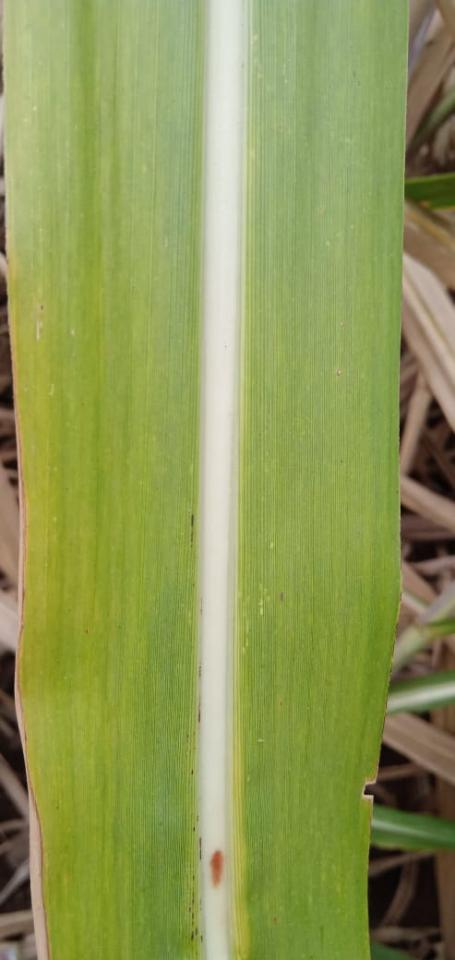RedRot: (207, 849, 224, 890)
Rust: (189, 513, 195, 549), (197, 692, 202, 725), (199, 596, 205, 617), (198, 665, 203, 681), (199, 836, 202, 862), (191, 890, 196, 905), (190, 929, 195, 942), (191, 911, 195, 926), (280, 590, 285, 602), (195, 925, 199, 936), (196, 813, 200, 823), (190, 766, 194, 776), (200, 934, 203, 944), (189, 906, 192, 914), (192, 826, 195, 833), (192, 874, 195, 880)
Yellow: (5, 231, 53, 959)
